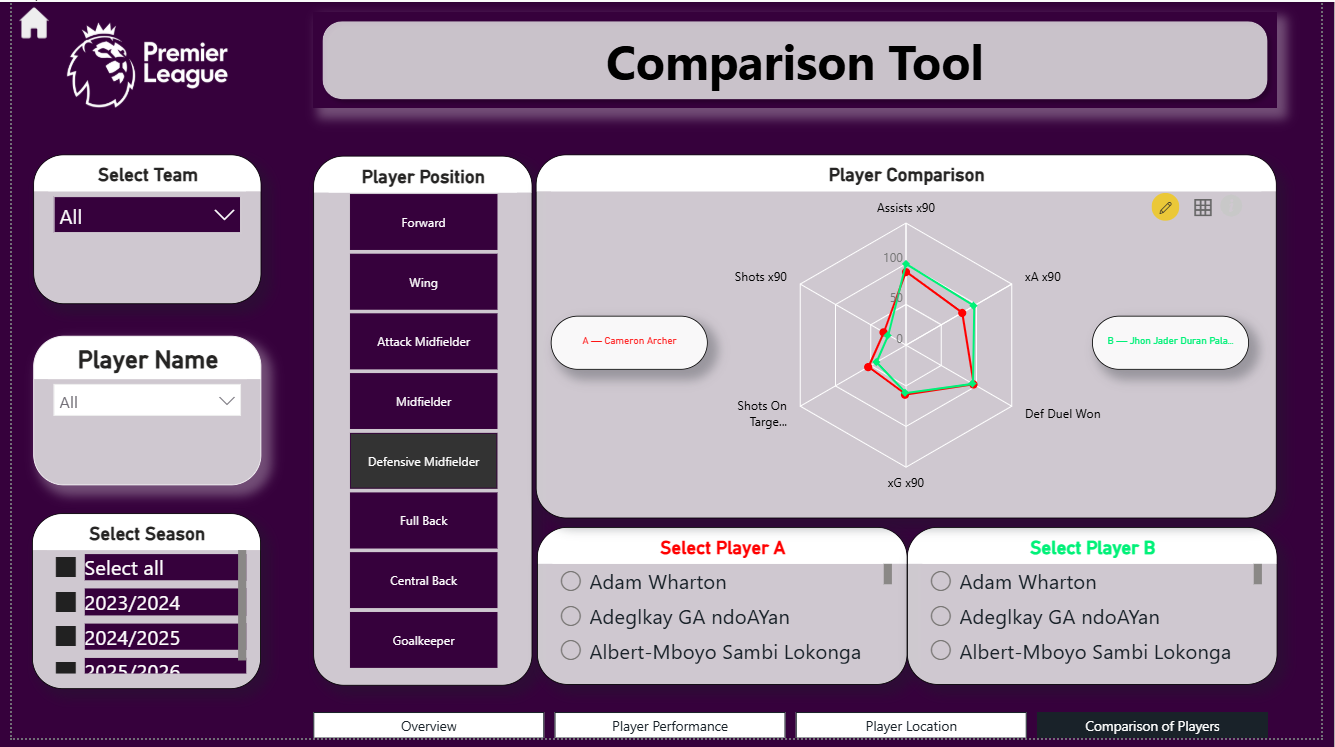

The dashboard page shown, as its layout file describes it:
{"tool":"powerbi","page":{"name":"Comparison of Players","canvas":[1280,720],"ordinal":3},"visuals":[{"type":"slicer","title":"Player Position","fields":{"Values":["PositionSelector.PoolPosition"]},"box":[295,150,214,518],"z":0},{"type":"slicer","title":"Select Player A","fields":{"Values":["PlayerPickerA.Player Name"]},"box":[513,514,362,154],"z":1000},{"type":"slicer","title":"Select Player B","fields":{"Values":["PlayerPickerB.Player Name"]},"box":[875,514,362,154],"z":2000},{"type":"radarChartE89D21F3E4E64221B79113B5015EA81B","title":"Player Comparison","fields":{"category":["RadarMetrics.Short"],"legend":["Series.Series"],"measure":["measure.MetricPct_BySeries"]},"box":[512.8,149.6,724.5,356.1],"z":3000},{"type":"shape","box":[294.7,9.7,942.5,94.3],"z":4000},{"type":"image","box":[20.4,9.7,223.7,104.1],"z":5000},{"type":"slicer","title":"Select Team","fields":{"Values":["Dim_TeamSeason.Club Name"]},"box":[20.4,149.8,223,146],"z":6000},{"type":"slicer","title":"Select Season","fields":{"Values":["Dim_TeamSeason.Season"]},"box":[20,500,224,172],"z":7000},{"type":"pageNavigator","box":[295,694,935,26],"z":8000},{"type":"image","box":[0,0,43,41],"z":9000},{"type":"slicer","title":"Player Name","fields":{"Values":["Dim_player.Player Name"]},"box":[20.2,326.4,223.3,146.5],"z":10000},{"type":"card","fields":{"Values":["measure.Legend A"]},"box":[527.6,306.8,153.4,52.8],"z":11000},{"type":"card","fields":{"Values":["measure.Legend B"]},"box":[1056.2,306.8,153.4,52.8],"z":12000}]}

Visuals, with their boxes in screenshot pixels (x1, y1, x2, y2), scaled from the page's 1280x720 canvas onto the 1335x747 screenshot:
"Player Position" slicer: region(308, 156, 531, 693)
"Select Player A" slicer: region(535, 533, 913, 693)
"Select Player B" slicer: region(913, 533, 1290, 693)
"Player Comparison" radarChartE89D21F3E4E64221B79113B5015EA81B: region(535, 155, 1290, 525)
shape: region(307, 10, 1290, 108)
image: region(21, 10, 255, 118)
"Select Team" slicer: region(21, 155, 254, 307)
"Select Season" slicer: region(21, 519, 254, 697)
pageNavigator: region(308, 720, 1283, 746)
image: region(0, 0, 45, 43)
"Player Name" slicer: region(21, 339, 254, 491)
card - measure.Legend A: region(550, 318, 710, 373)
card - measure.Legend B: region(1102, 318, 1262, 373)
